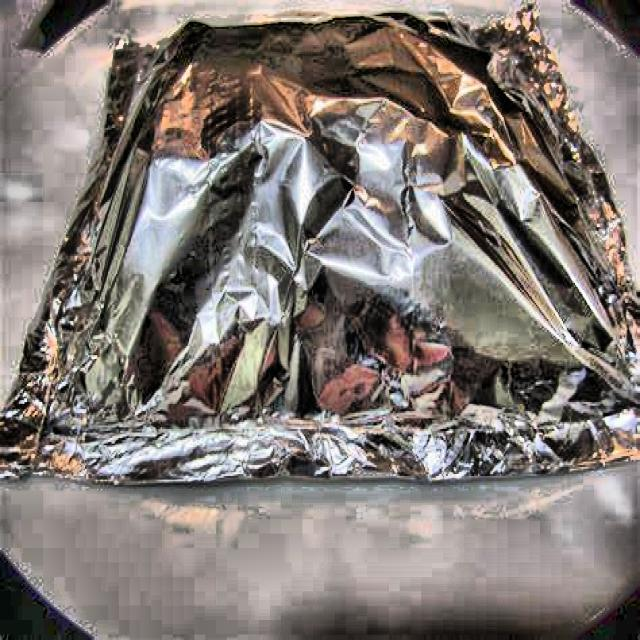Foil: (0, 1, 640, 493)
